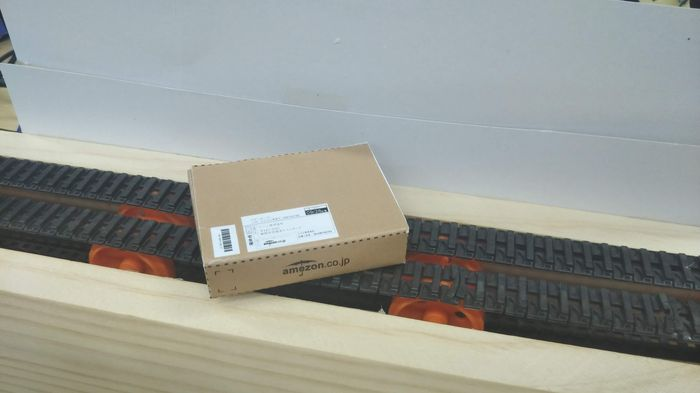box2: (181, 140, 412, 300)
